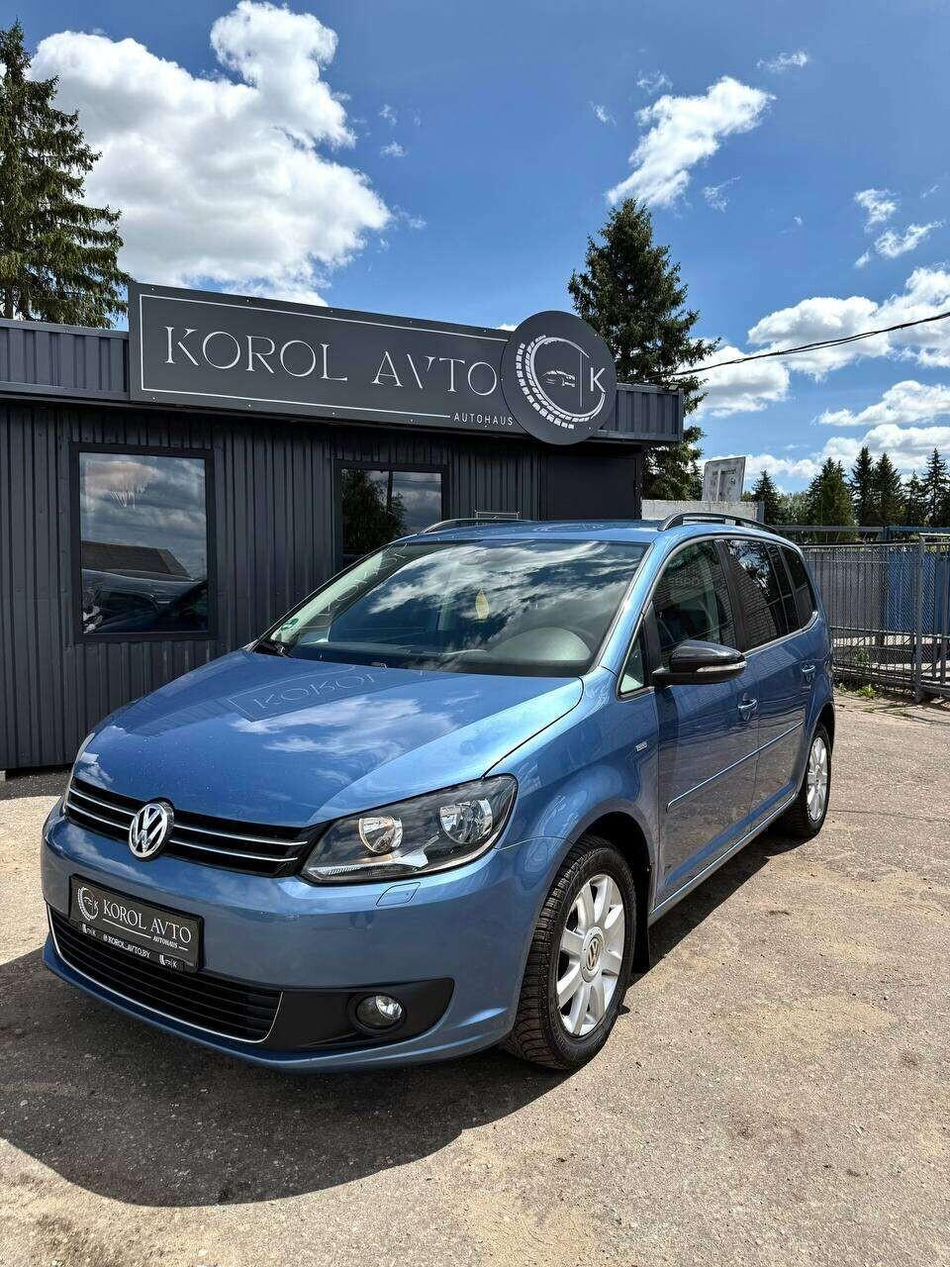Touran_2010-2015: (28, 516, 835, 1061)
